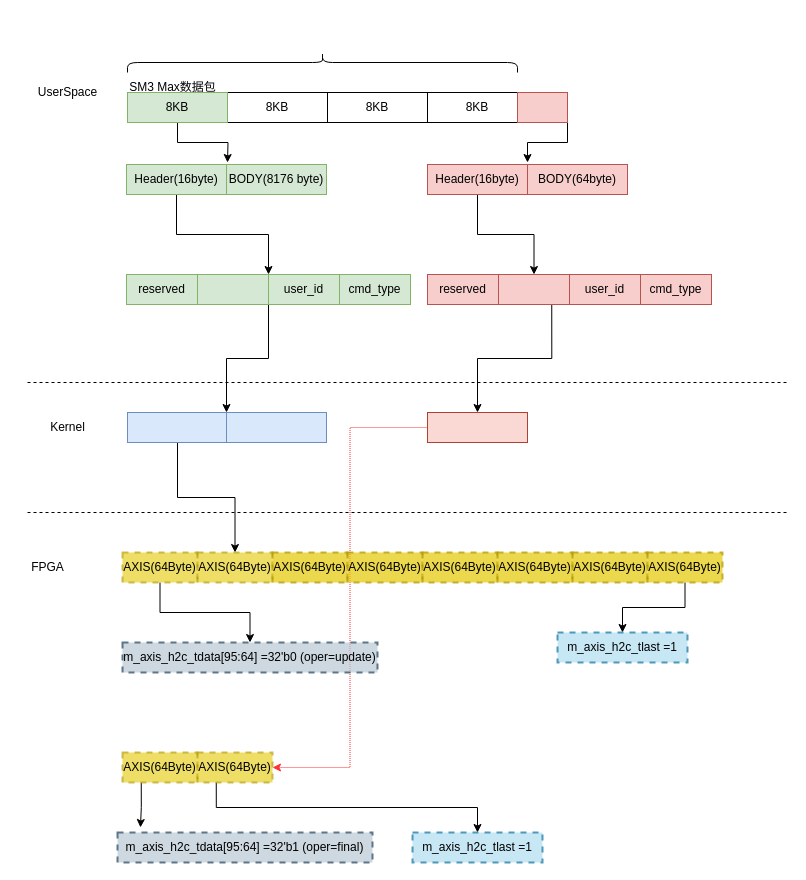
Some shapes in this 806 by 880 pixel diagram are drawn without their labels. Here are the shapes that lost their labels. From the top down, the centre of each, then its label:
point (322, 62): 实际需要SM3计算的包32KB
point (542, 107): 80Byte
point (232, 289): oper(update)
point (534, 289): oper(final)
point (177, 427): Page (4KB)
point (276, 427): Page(4KB)
point (477, 427): Page(80Byte)
